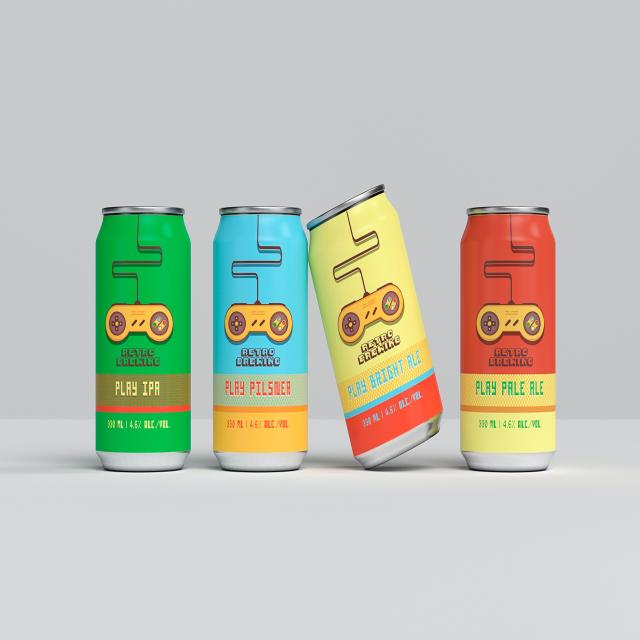can: (307, 182, 443, 470), (212, 204, 308, 473), (95, 206, 191, 473), (461, 205, 556, 472)
